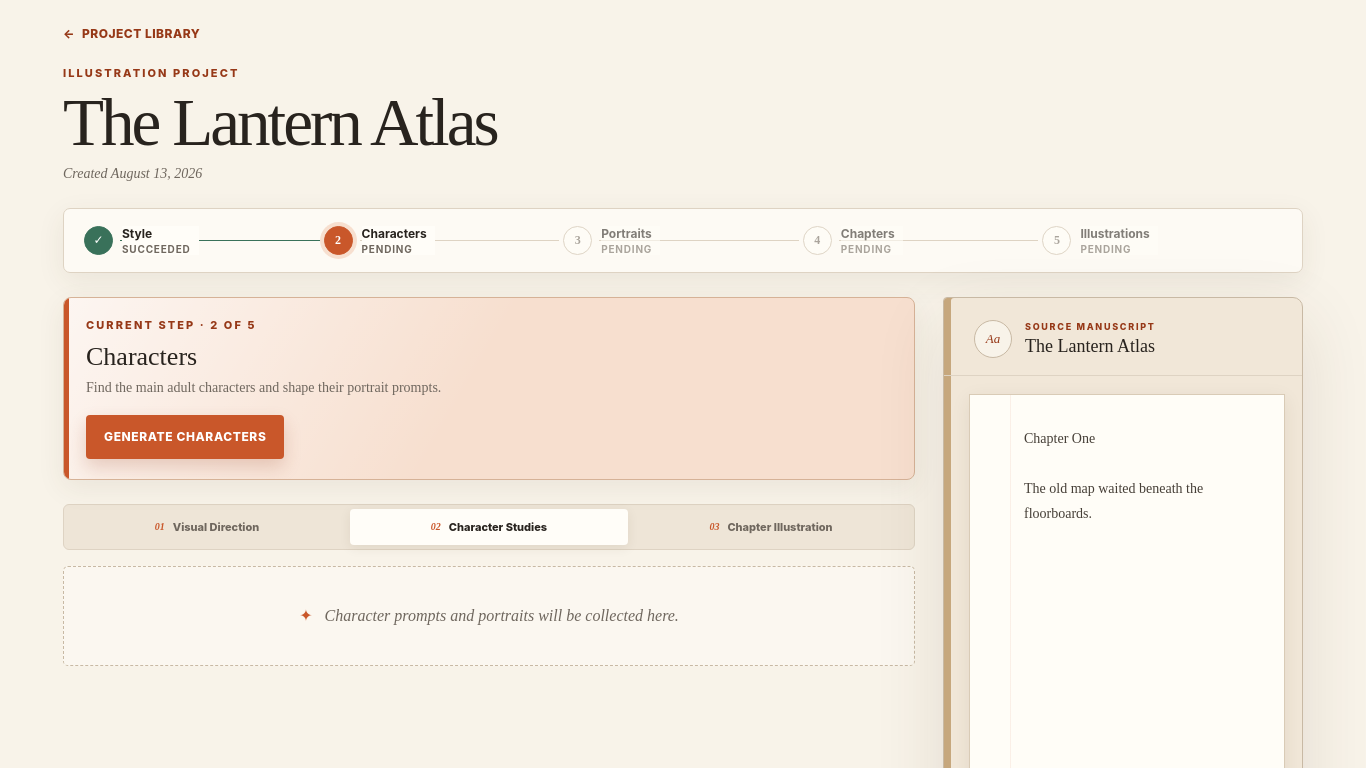
Test case: project pipeline › renders saved Visual Direction Markdown as semantic HTML
Click the tab "01 Visual Direction".
click(207, 527)  # box [68, 509, 346, 545]
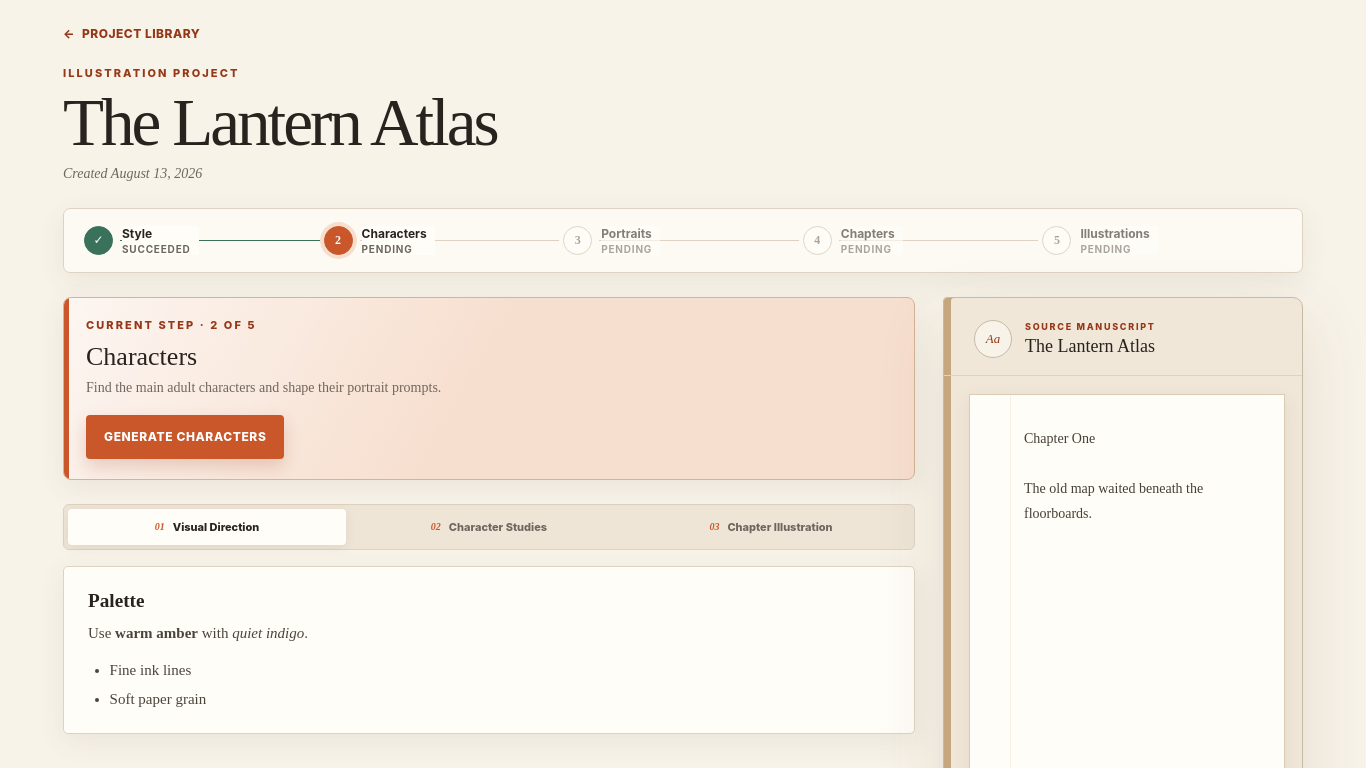
Check: the heading "Palette" is shown, box [88, 590, 144, 611]
